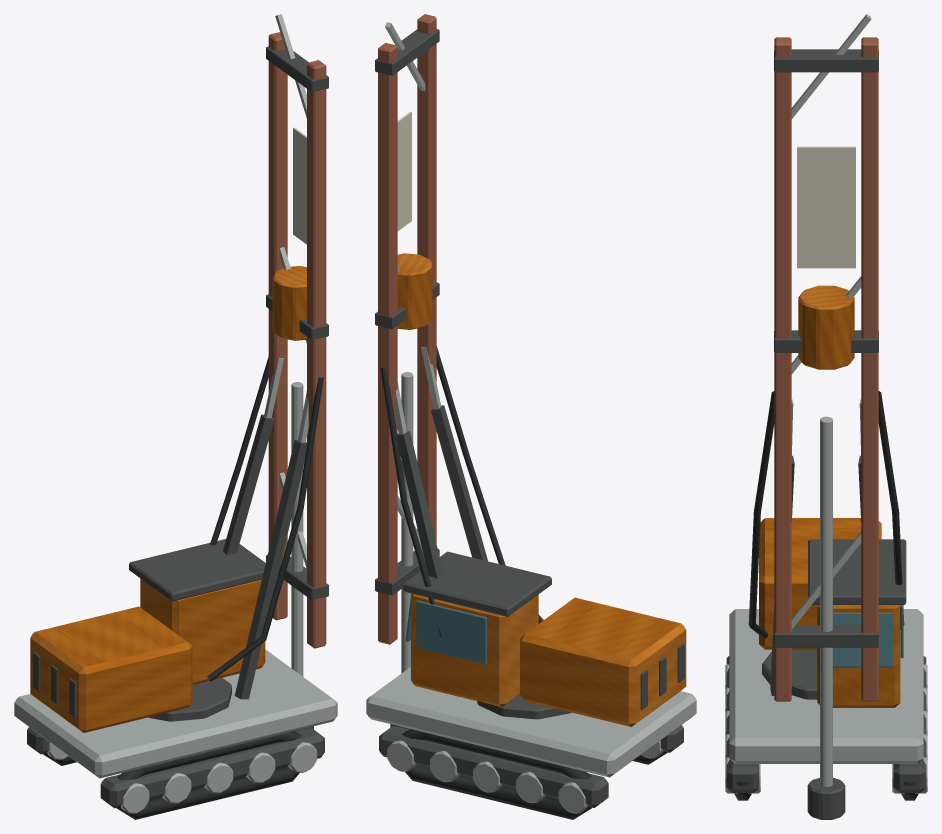
File: quarry-drill-lod-packed.glb
The picture shows the model from 3 angles, left to right: view 1: azimuth 30°, elevation 25°; view 2: azimuth 150°, elevation 25°; view 3: azimuth 270°, elevation 25°; orthographic projection. The views are drawn at different scales.
Visible parts, largest first — view 1: 01 quarry safety ochre / chipped enamel • merged manufacture, 03 dusted galvanized steel • merged manufactured assembly, 04 oiled machinery / shadow steel • merged manufactured asse, 02 weathered red oxide structural steel • merged manufacture, 05 deep tire rubber • merged manufactured assembly, vertical identifying band; view 2: 01 quarry safety ochre / chipped enamel • merged manufacture, 03 dusted galvanized steel • merged manufactured assembly, 04 oiled machinery / shadow steel • merged manufactured asse, 02 weathered red oxide structural steel • merged manufacture, 05 deep tire rubber • merged manufactured assembly, 06 dirty blue cab glass • merged manufactured assembly, vertical identifying band; view 3: 03 dusted galvanized steel • merged manufactured assembly, 02 weathered red oxide structural steel • merged manufacture, 04 oiled machinery / shadow steel • merged manufactured asse, 01 quarry safety ochre / chipped enamel • merged manufacture, vertical identifying band, 05 deep tire rubber • merged manufactured assembly, 06 dirty blue cab glass • merged manufactured assembly.
Part boxes in pixels (bbox=[...]): 01 quarry safety ochre / chipped enamel • merged manufacture: bbox=[30, 266, 306, 732]; 03 dusted galvanized steel • merged manufactured assembly: bbox=[14, 14, 337, 813]; 04 oiled machinery / shadow steel • merged manufactured asse: bbox=[27, 46, 328, 808]; 02 weathered red oxide structural steel • merged manufacture: bbox=[268, 32, 326, 648]; 05 deep tire rubber • merged manufactured assembly: bbox=[43, 357, 323, 819]; vertical identifying band: bbox=[293, 127, 306, 244]; 01 quarry safety ochre / chipped enamel • merged manufacture: bbox=[397, 253, 686, 726]; 03 dusted galvanized steel • merged manufactured assembly: bbox=[366, 22, 696, 813]; 04 oiled machinery / shadow steel • merged manufactured asse: bbox=[375, 29, 684, 807]; 02 weathered red oxide structural steel • merged manufacture: bbox=[378, 14, 436, 644]; 05 deep tire rubber • merged manufactured assembly: bbox=[380, 346, 667, 819]; 06 dirty blue cab glass • merged manufactured assembly: bbox=[405, 597, 486, 664]; vertical identifying band: bbox=[397, 111, 411, 230]; 03 dusted galvanized steel • merged manufactured assembly: bbox=[725, 14, 927, 793]; 02 weathered red oxide structural steel • merged manufacture: bbox=[774, 37, 878, 701]; 04 oiled machinery / shadow steel • merged manufactured asse: bbox=[726, 49, 926, 819]; 01 quarry safety ochre / chipped enamel • merged manufacture: bbox=[759, 285, 900, 707]; vertical identifying band: bbox=[797, 146, 855, 268]; 05 deep tire rubber • merged manufactured assembly: bbox=[734, 391, 918, 800]; 06 dirty blue cab glass • merged manufactured assembly: bbox=[833, 605, 903, 667].
Size of the model in its own units: 6.85 by 17.45 by 3.95.
Materials: 7 (1 with a texture image).
